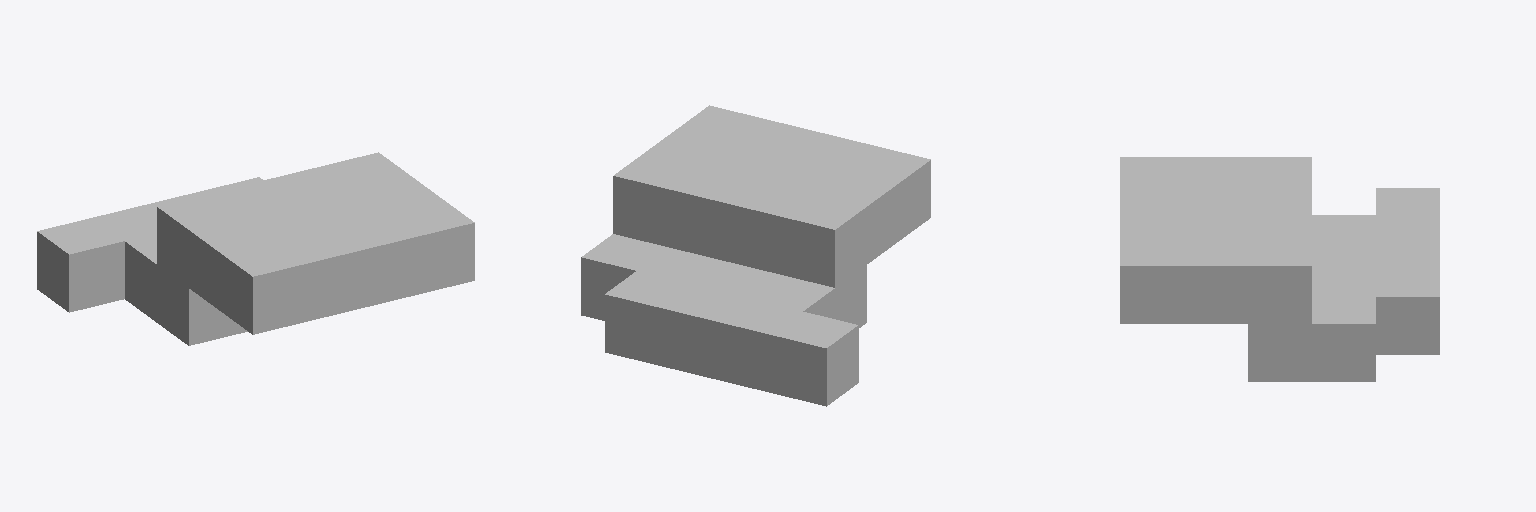
Rendered from LeftWing.obj.
The picture shows the model from 3 angles: view 1: azimuth 30°, elevation 25°; view 2: azimuth 150°, elevation 25°; view 3: azimuth 270°, elevation 25°; orthographic projection.
Parts seen in each view (by area): view 1: object 1; view 2: object 1; view 3: object 1.
Part boxes in pixels (bbox=[...]): object 1: bbox=[37, 152, 474, 345]; object 1: bbox=[581, 105, 930, 406]; object 1: bbox=[1120, 157, 1439, 381].
Bounding box in the file's own units: 0.5 × 0.2 × 0.5.